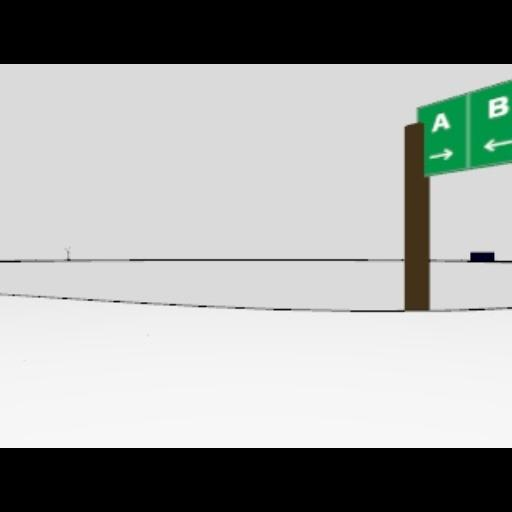A: (430, 112, 452, 134)
B: (488, 95, 510, 121)
Left: (482, 137, 512, 151)
Right: (428, 148, 454, 160)
